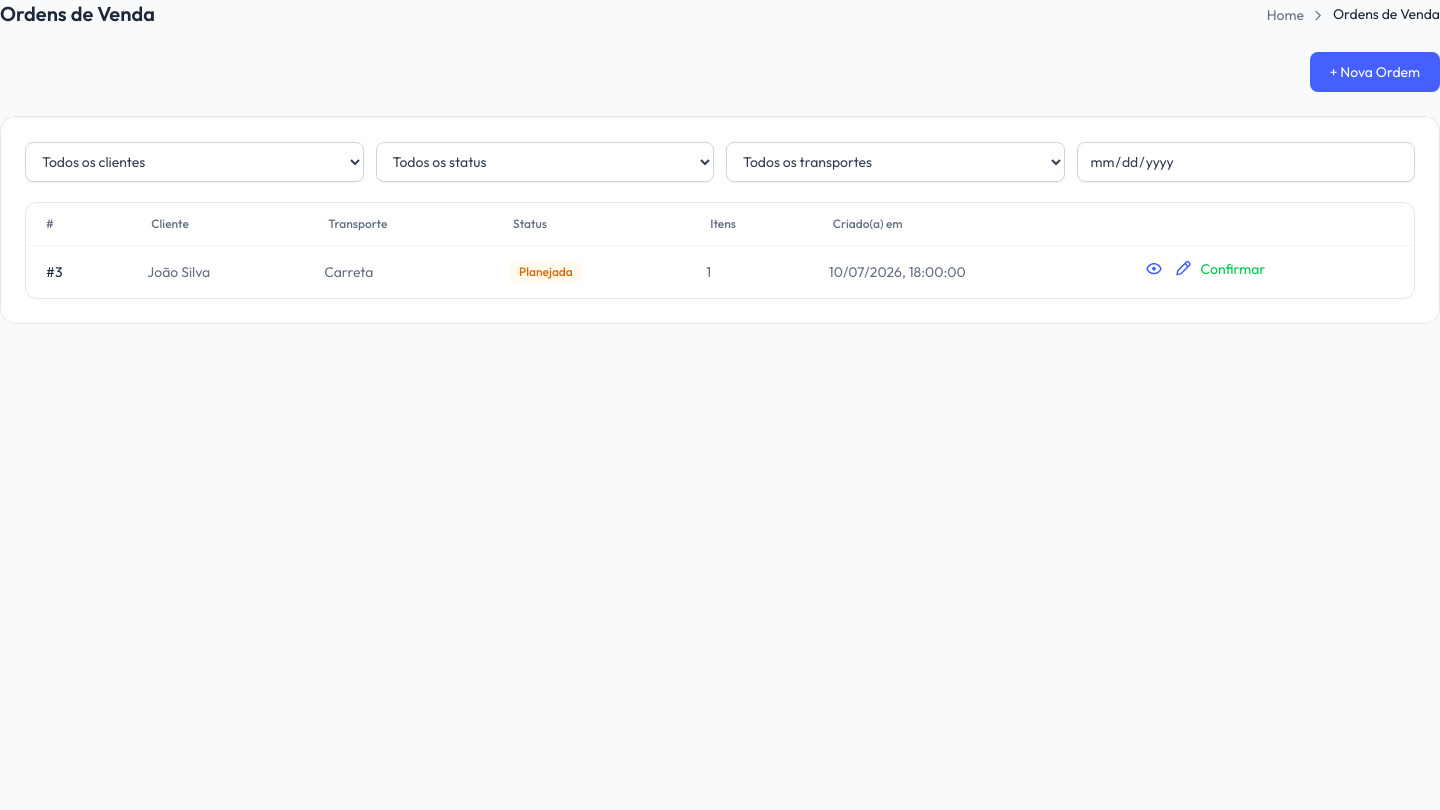
Test: agendamento › abre o modal de confirmação ao clicar em Confirmar
Click the button "Confirmar" at (1233, 268), box [1201, 258, 1265, 278]
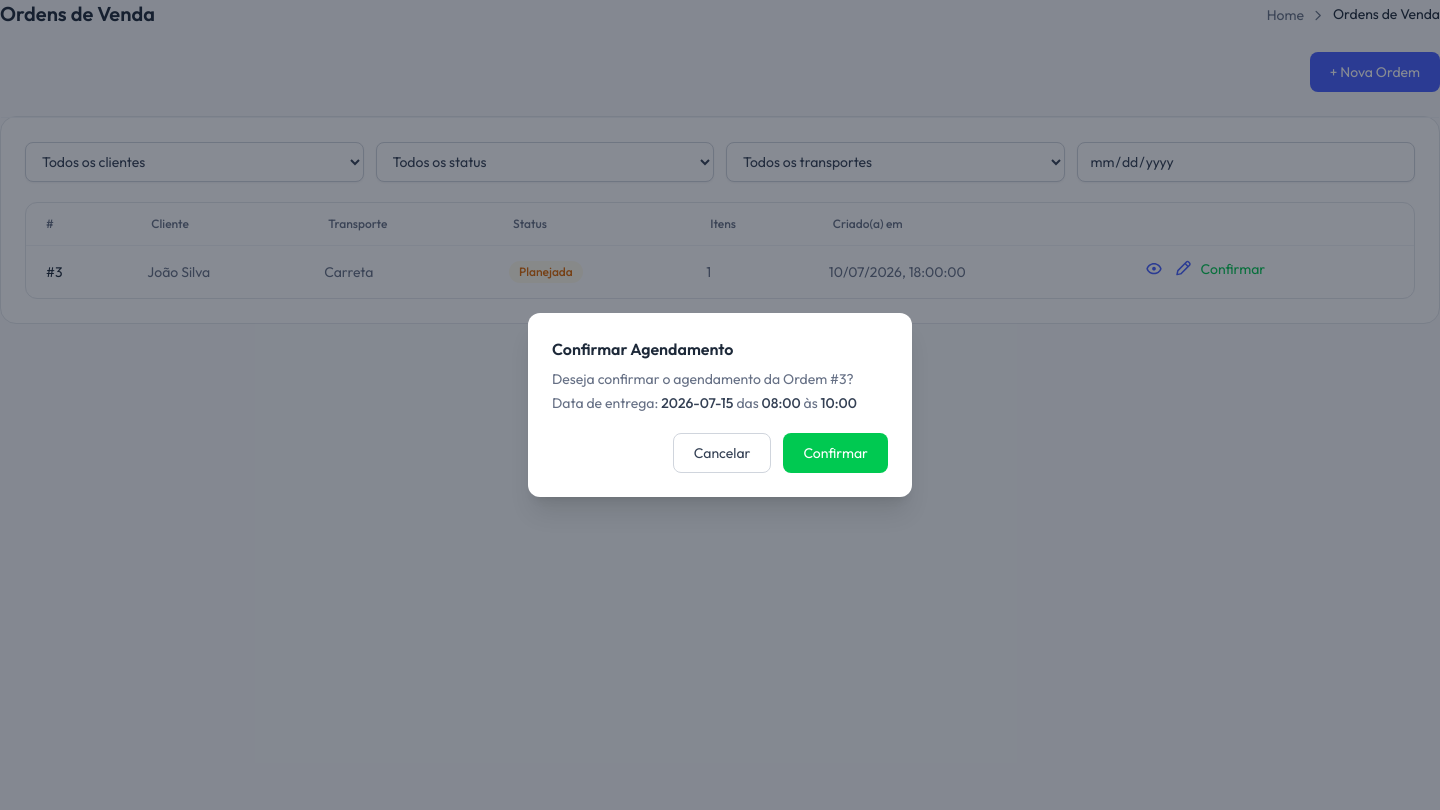
Now the text "Deseja confirmar o agendamento da Ordem #3?" is shown, box [552, 369, 888, 389]
Now the text "2026-07-15" is shown, box [661, 394, 734, 412]
